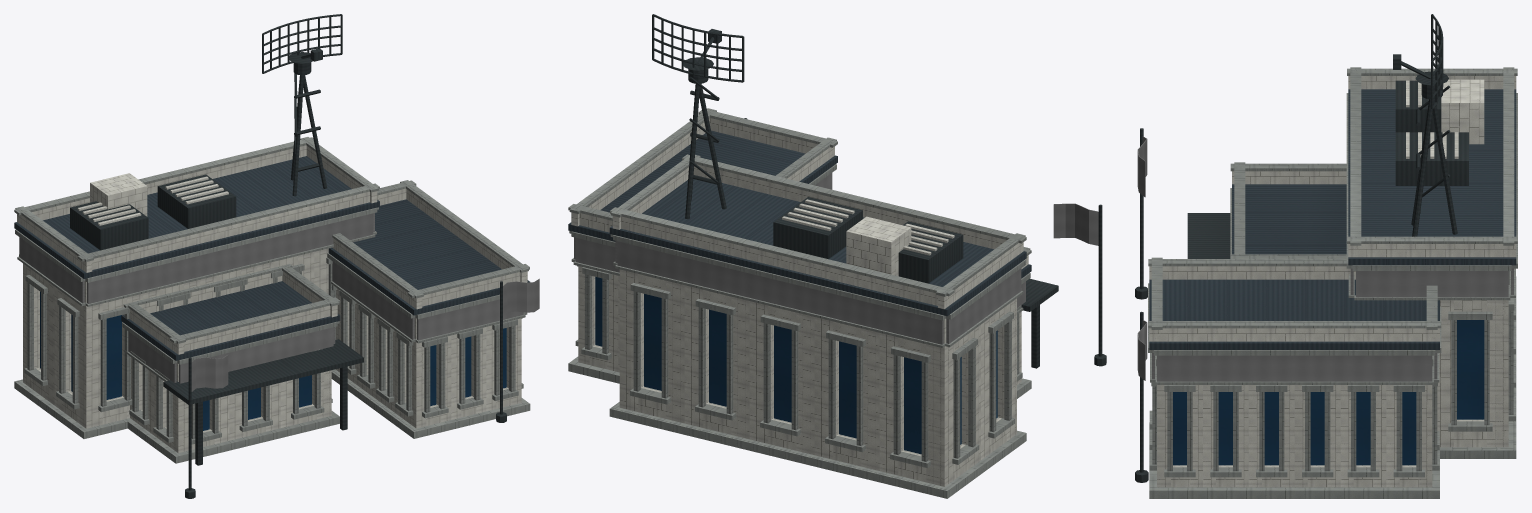
The model's file is war_college-f1fcced5.glb.
3 views of the same model, side by side, from view 1: azimuth 30°, elevation 25°; view 2: azimuth 150°, elevation 25°; view 3: azimuth 270°, elevation 25° (orthographic). The views are drawn at different scales.
Visible parts, largest first — view 1: LOD0; view 2: LOD0; view 3: LOD0.
Boxes of the visible parts, box(x1,y1,x2,y2) form: LOD0: box(14, 14, 539, 498); LOD0: box(568, 14, 1106, 498); LOD0: box(1135, 14, 1517, 498).
Size of what is drawn, in the model's own units: 1.7 by 1.43 by 1.25.
2 materials, 2 textured.
